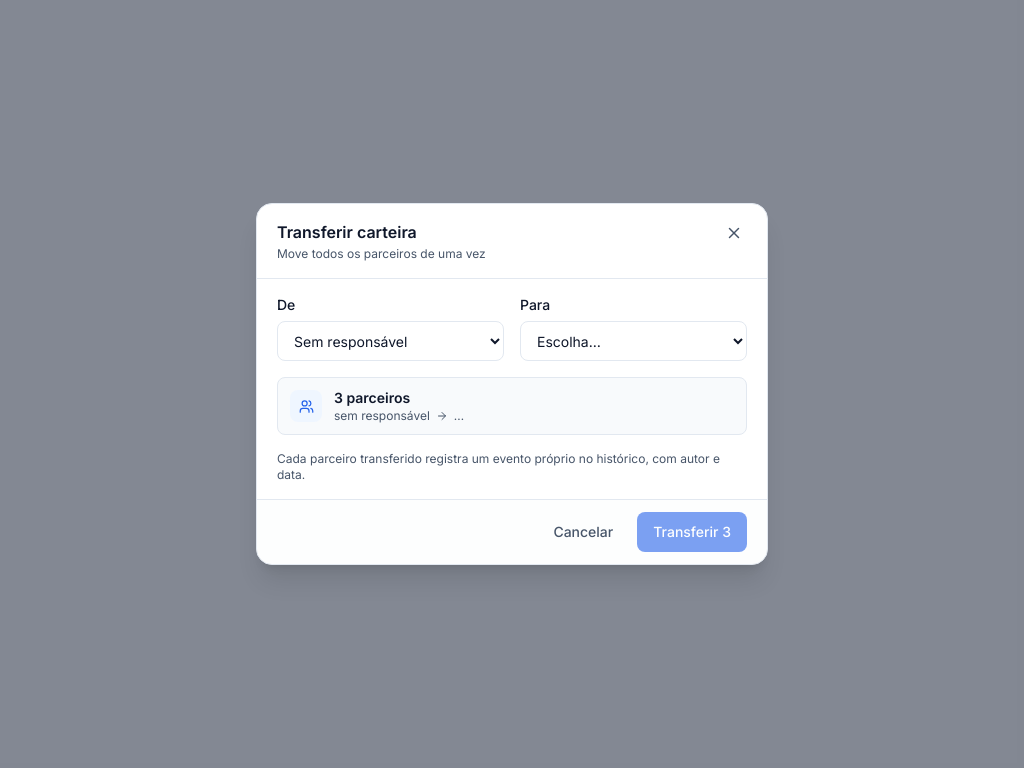
TransferirCarteira — erro › mostra a mensagem da API e não fecha
The width and height of the screenshot is (1024, 768).
Select "Ana EC" in the dropdown labelled "Para". click: x=634, y=341
box: top-left (520, 321), bottom-right (747, 361)
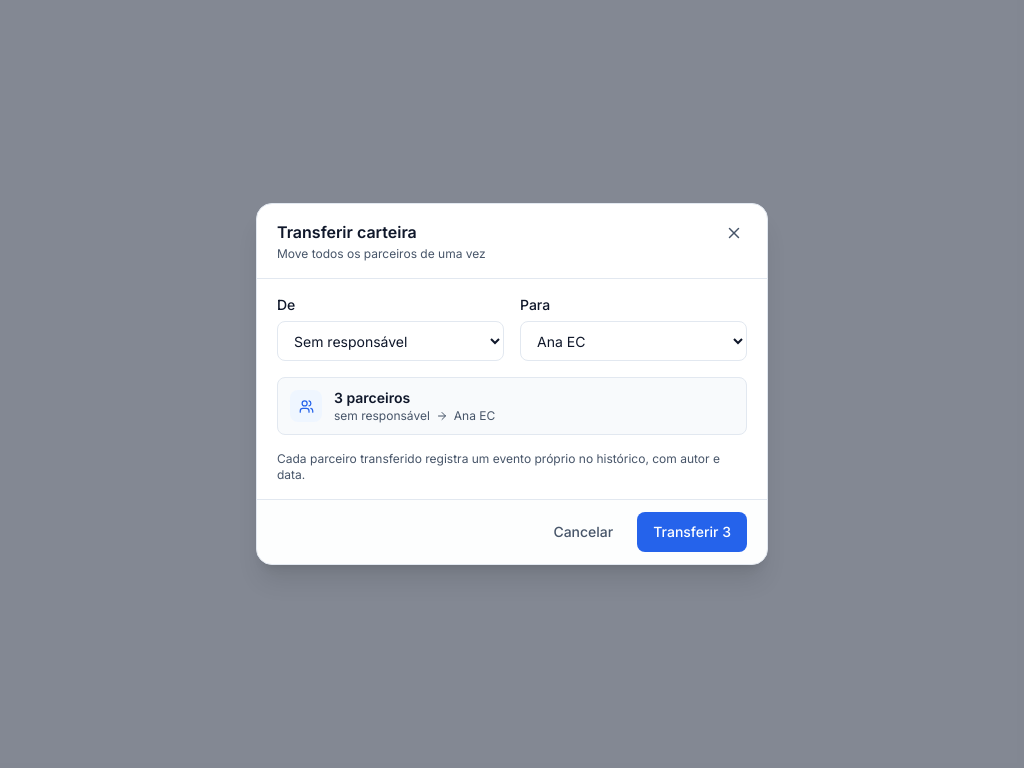
Click the button "Transferir 3". click: x=692, y=532
box: top-left (637, 512), bottom-right (747, 552)
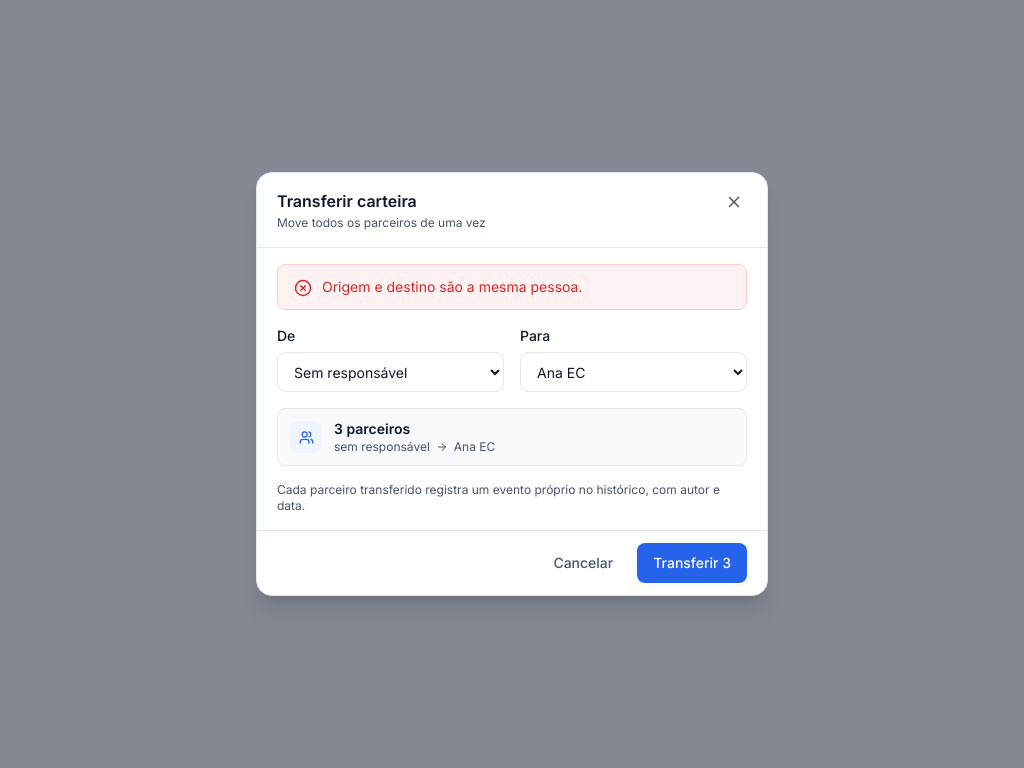
Now the text "Origem e destino são a mesma pessoa." is shown, box top-left (322, 278), bottom-right (582, 295)
